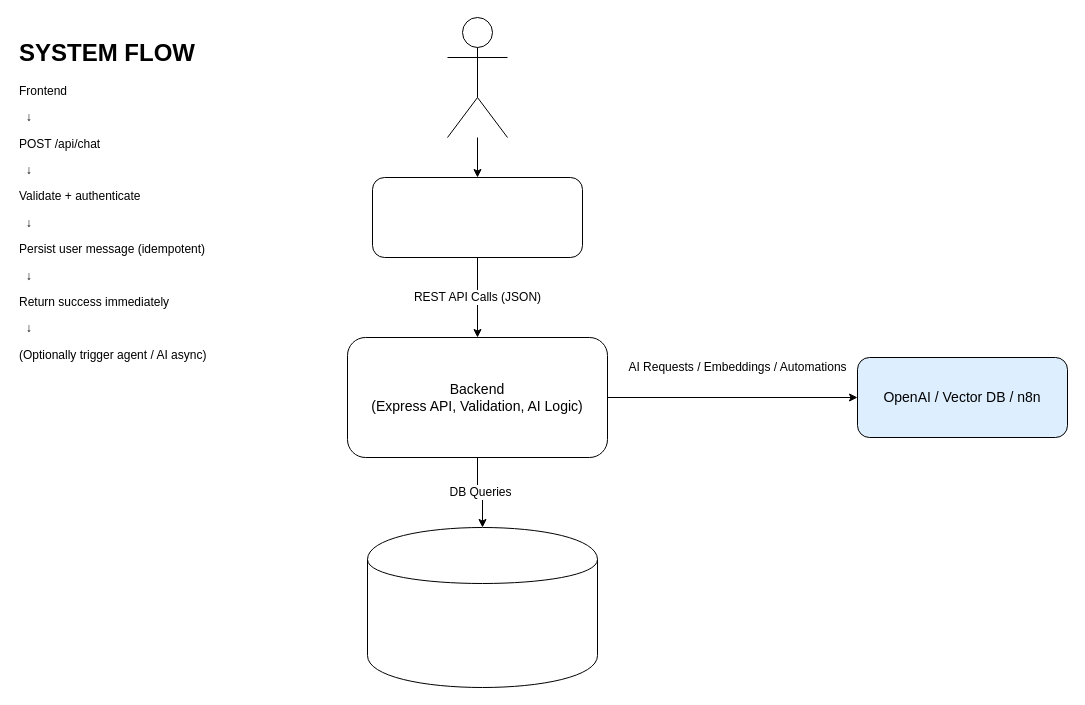
The diagram is 1085 pixels wide and 705 high, and some of its shapes have lost their labels. The centre of each missing label's shape, as x and y in pixels:
"Frontend (React UI)" goes at [477,217].
"PostgreSQL (projects, messages, embeddings, users)" goes at [482,607].
